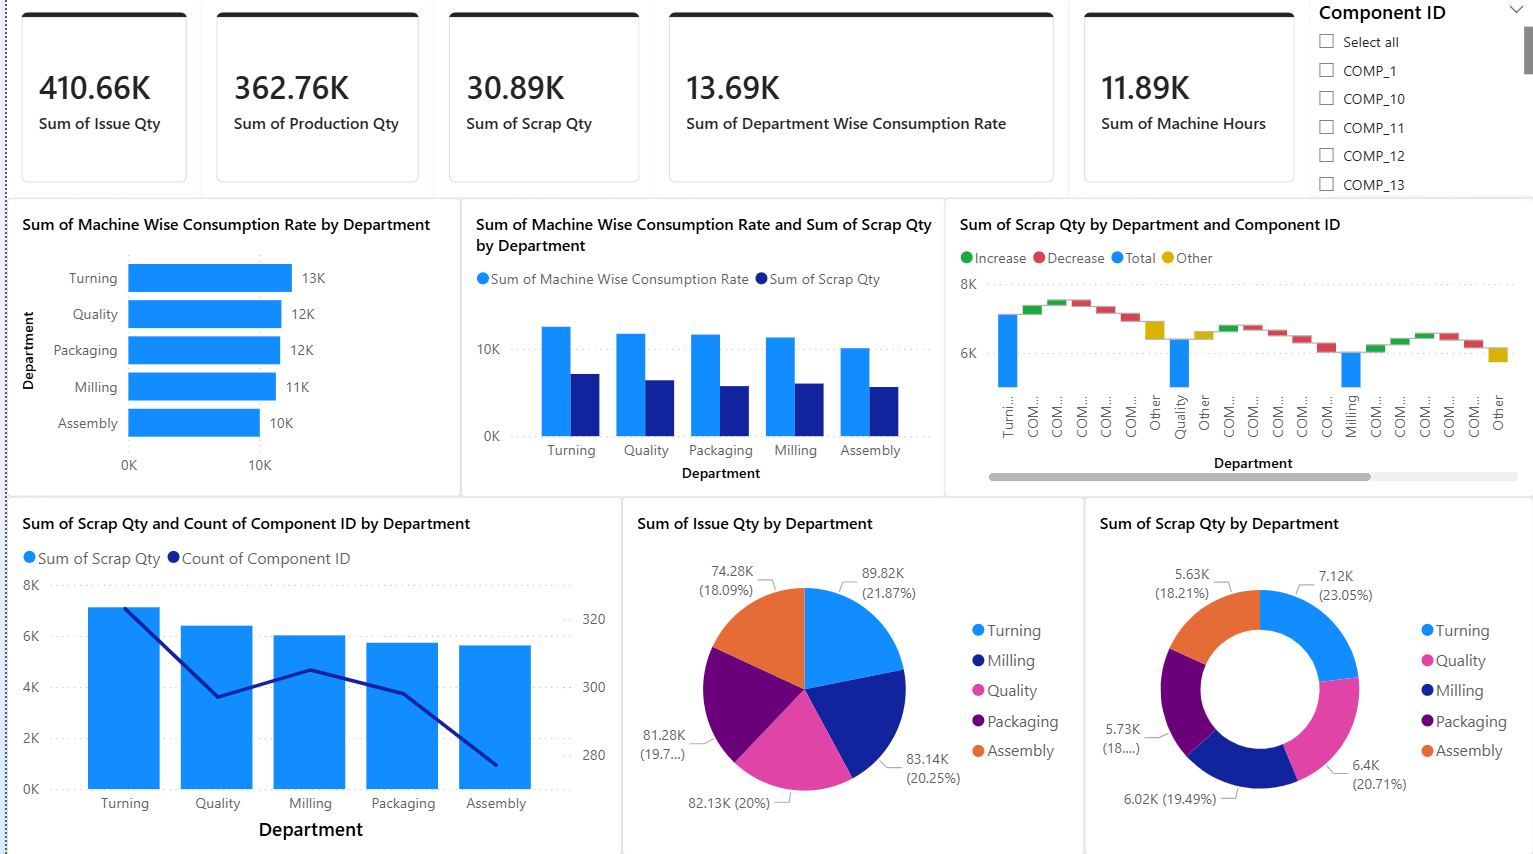

The page's visual inventory and layout, read from the dashboard file:
{"tool":"powerbi","page":{"name":"Page 1","canvas":[1280,720],"ordinal":0},"visuals":[{"type":"cardVisual","fields":{"Data":["Sum(consume.Issue Qty)"]},"box":[0,0,163.5,167.7],"z":0},{"type":"cardVisual","fields":{"Data":["Sum(consume.Production Qty)"]},"box":[164,0,194.2,167.4],"z":1000},{"type":"cardVisual","fields":{"Data":["Sum(consume.Scrap Qty)"]},"box":[358.1,0,184.9,167.4],"z":2000},{"type":"cardVisual","fields":{"Data":["Sum(consume.Department Wise Consumption Rate)"]},"box":[543,0,347.7,167.4],"z":3000},{"type":"cardVisual","fields":{"Data":["Sum(consume.Machine Hours)"]},"box":[891.1,0,201.3,167.7],"z":4000},{"type":"clusteredBarChart","fields":{"Category":["consume.Department"],"Y":["Sum(consume.Machine Wise Consumption Rate)"]},"box":[0,167.7,380.5,250.6],"z":5000},{"type":"clusteredColumnChart","fields":{"Category":["consume.Department"],"Y":["Sum(consume.Machine Wise Consumption Rate)","Sum(consume.Scrap Qty)"]},"box":[380.2,167.4,407,251.2],"z":6000},{"type":"waterfallChart","fields":{"Category":["consume.Department"],"Y":["Sum(consume.Scrap Qty)"],"Breakdown":["consume.Component ID"]},"box":[786,167.4,494.2,251.2],"z":7000},{"type":"lineStackedColumnComboChart","fields":{"Y":["Sum(consume.Scrap Qty)"],"Y2":["CountNonNull(consume.Component ID)"],"Category":["consume.Department"]},"box":[0,418.3,515.8,301.9],"z":8000},{"type":"pieChart","fields":{"Category":["consume.Department"],"Y":["Sum(consume.Issue Qty)"]},"box":[516.3,418.6,388.4,301.2],"z":9000},{"type":"donutChart","fields":{"Y":["Sum(consume.Scrap Qty)"],"Category":["consume.Department"]},"box":[903.5,418.6,376.7,301.2],"z":10000},{"type":"slicer","fields":{"Values":["consume.Component ID"]},"box":[1092.4,0,187.7,166.7],"z":11000}]}

Visuals, with their boxes in screenshot pixels (x1, y1, x2, y2), scaled from the page's 1280x720 canvas onto the 1533x854 screenshot:
cardVisual - Sum(consume.Issue Qty): locate(0, 0, 196, 199)
cardVisual - Sum(consume.Production Qty): locate(196, 0, 429, 199)
cardVisual - Sum(consume.Scrap Qty): locate(429, 0, 650, 199)
cardVisual - Sum(consume.Department Wise Consumption Rate): locate(650, 0, 1067, 199)
cardVisual - Sum(consume.Machine Hours): locate(1067, 0, 1308, 199)
clusteredBarChart - consume.Department x Sum(consume.Machine Wise Consumption Rate): locate(0, 199, 456, 496)
clusteredColumnChart - consume.Department x Sum(consume.Machine Wise Consumption Rate): locate(455, 199, 943, 497)
waterfallChart - consume.Department x Sum(consume.Scrap Qty): locate(941, 199, 1532, 497)
lineStackedColumnComboChart - Sum(consume.Scrap Qty) x CountNonNull(consume.Component ID): locate(0, 496, 618, 853)
pieChart - consume.Department x Sum(consume.Issue Qty): locate(618, 497, 1084, 853)
donutChart - Sum(consume.Scrap Qty) x consume.Department: locate(1082, 497, 1532, 853)
slicer - consume.Component ID: locate(1308, 0, 1532, 198)
